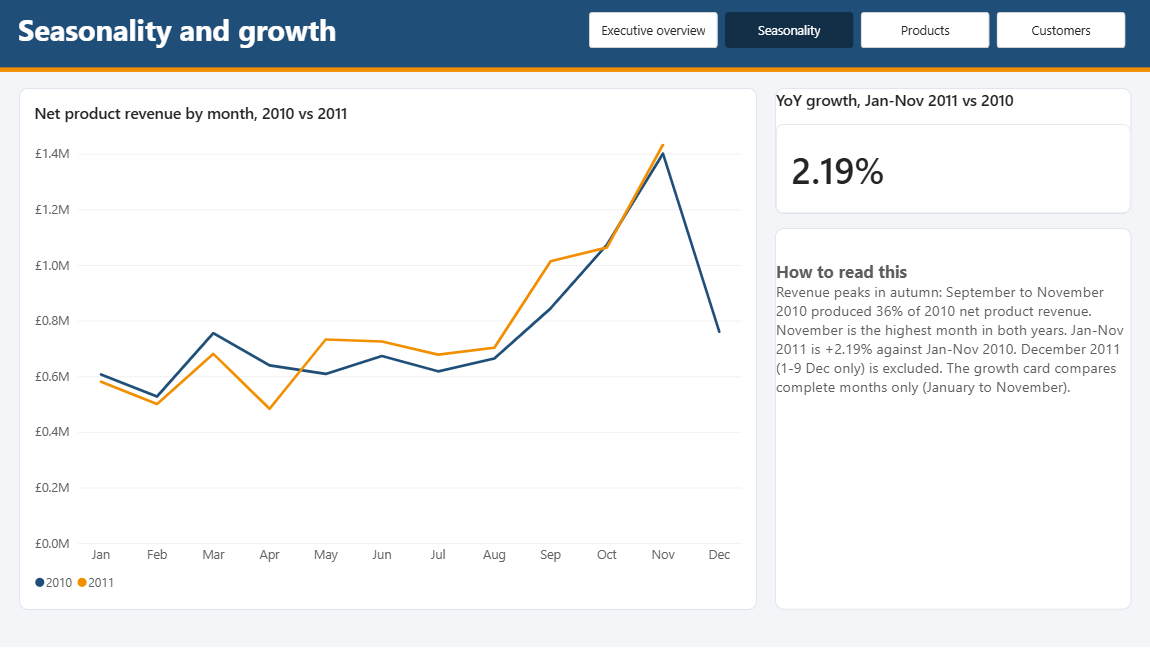

What the dashboard file says about the page in this screenshot:
{"tool":"powerbi","page":{"name":"Seasonality","canvas":[1920,1080],"ordinal":1},"visuals":[{"type":"lineChart","title":"Net product revenue by month, 2010 vs 2011","fields":{"Category":["dim_date.Month name"],"Series":["dim_date.Year"],"Y":["_Measures.Net Product Revenue (complete months)"]},"box":[341.7,276.7,820,580],"z":0},{"type":"textbox","box":[1182.5,432.2,396,424],"z":1000},{"type":"textbox","box":[341,188.3,600,48],"z":2000},{"type":"pageNavigator","box":[976,192,596,40],"z":3000},{"type":"cardVisual","title":"YoY growth, Jan-Nov 2011 vs 2010","fields":{"Data":["_Measures.Net Revenue YoY % (like-for-like)"]},"box":[1182.5,276.2,396,140],"z":4000}]}

Visuals, with their boxes in screenshot pixels (x1, y1, x2, y2), scaled from the page's 1920x1080 canvas onto the 1150x648 screenshot:
"Net product revenue by month, 2010 vs 2011" lineChart: [left=205, top=166, right=696, bottom=514]
textbox: [left=708, top=259, right=945, bottom=514]
textbox: [left=204, top=113, right=564, bottom=142]
pageNavigator: [left=585, top=115, right=942, bottom=139]
"YoY growth, Jan-Nov 2011 vs 2010" cardVisual: [left=708, top=166, right=945, bottom=250]
